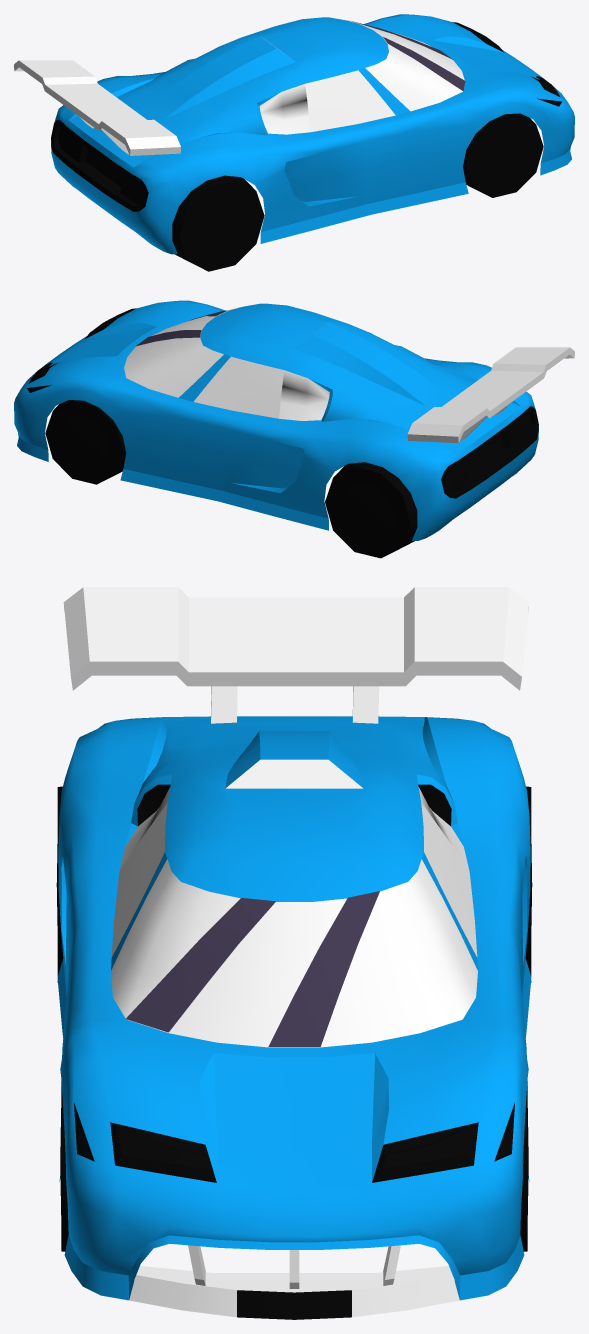
The model's file is SuperCar.fbx.
3 renders of one model, top to bottom at view 1: azimuth 30°, elevation 25°; view 2: azimuth 150°, elevation 25°; view 3: azimuth 270°, elevation 25°, orthographic. The views are drawn at different scales.
Visible parts, largest first — view 1: SuperCar; view 2: SuperCar; view 3: SuperCar.
Boxes of the visible parts, x1,y1,x2,y2 form: SuperCar: [14, 14, 574, 271]; SuperCar: [14, 300, 574, 558]; SuperCar: [56, 587, 532, 1319].
Bounding box in the file's own units: 20.77 × 6.68 × 8.99.
